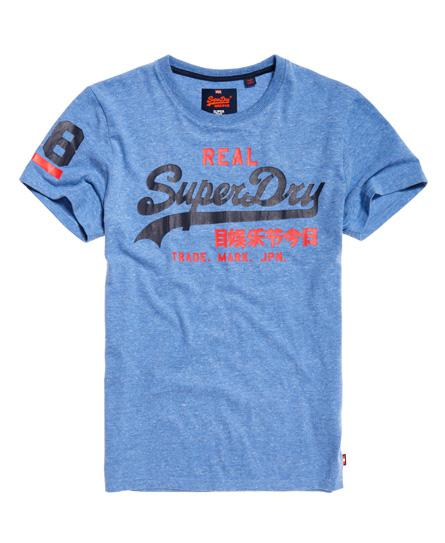teeshirt: (14, 52, 429, 509)
